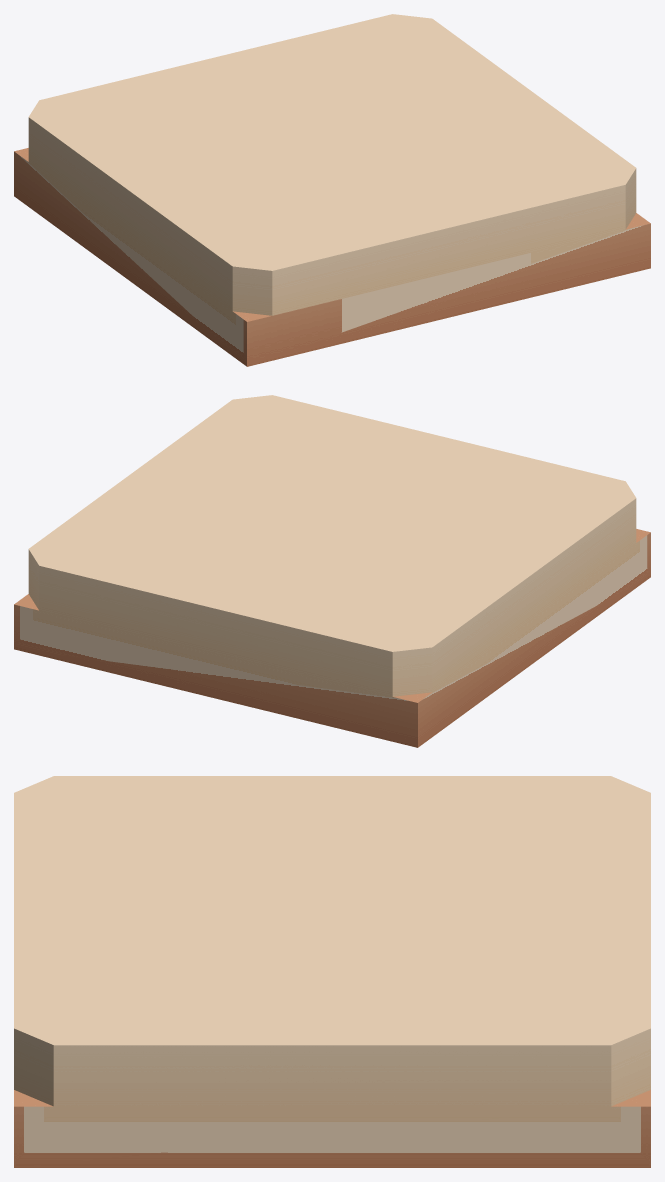
Rendered from roof-flat-detail-a.glb.
The picture shows the model from 3 angles, top to bottom: view 1: azimuth 30°, elevation 25°; view 2: azimuth 150°, elevation 25°; view 3: azimuth 270°, elevation 25°; orthographic projection. The views are drawn at different scales.
Visible parts, largest first — view 1: roof-flat-detail-a; view 2: roof-flat-detail-a; view 3: roof-flat-detail-a.
Part boxes in pixels (bbox=[...]): roof-flat-detail-a: bbox=[14, 14, 650, 366]; roof-flat-detail-a: bbox=[14, 395, 650, 747]; roof-flat-detail-a: bbox=[14, 776, 650, 1167].
Bounding box in the file's own units: 1 × 0.2125 × 1.
Materials: 1 (1 with a texture image).
